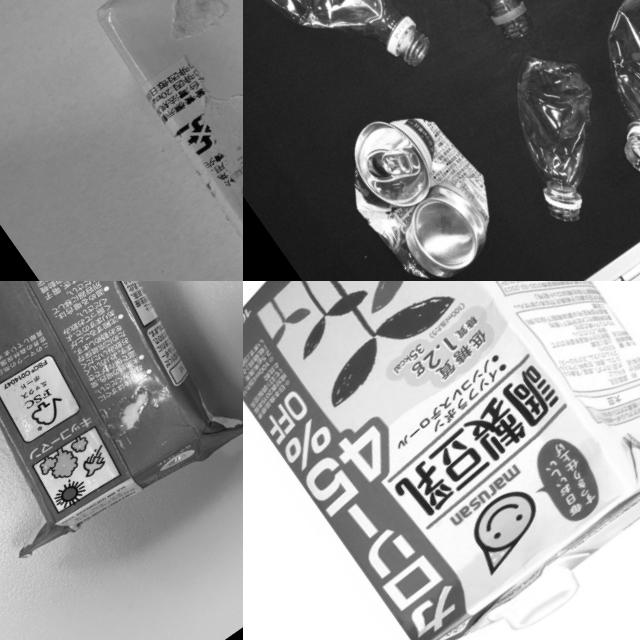Aluminium Foil: (243, 281, 640, 640), (0, 281, 243, 555), (80, 0, 243, 281)
Can: (317, 86, 523, 281)
Transparent Plastic Bottle: (462, 38, 640, 232), (243, 0, 440, 120), (534, 0, 640, 198)
